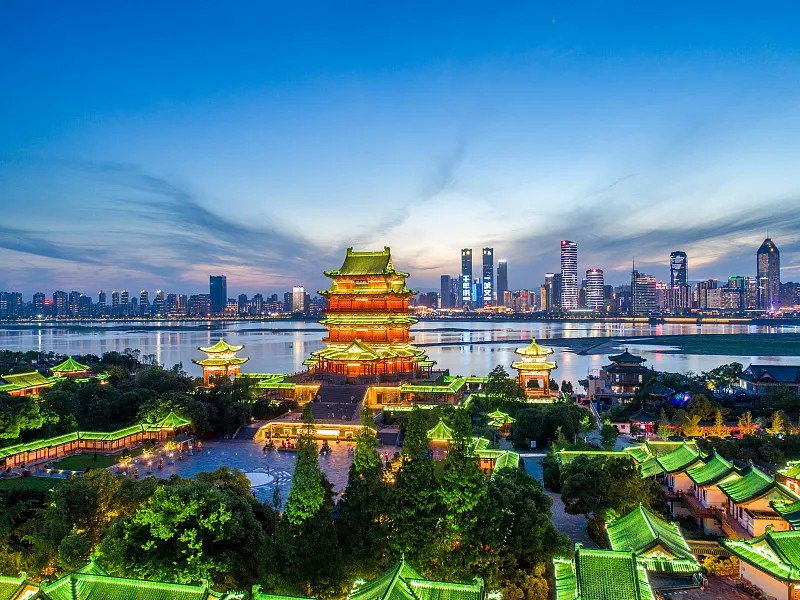Teng: (302, 247, 438, 379)
